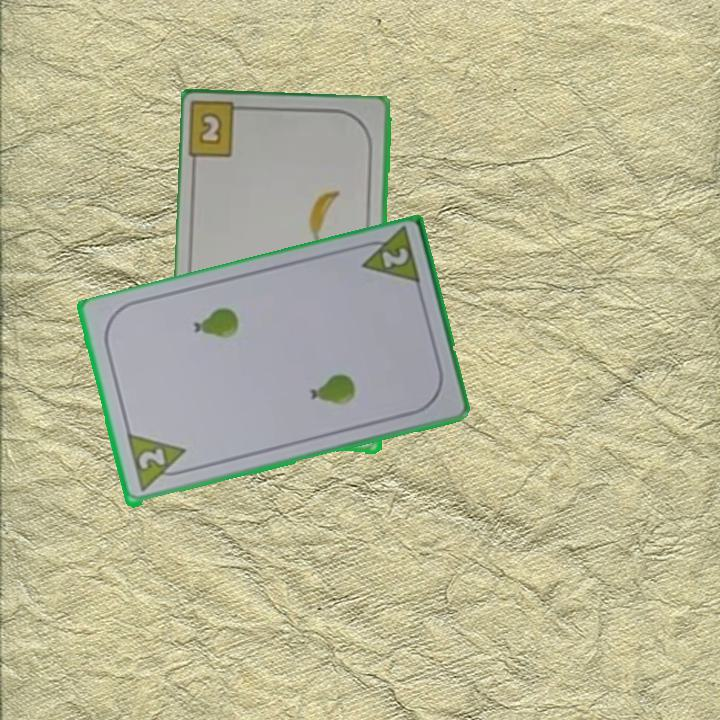2b: (195, 109, 225, 149)
2p: (353, 227, 423, 291), (123, 432, 193, 495)
